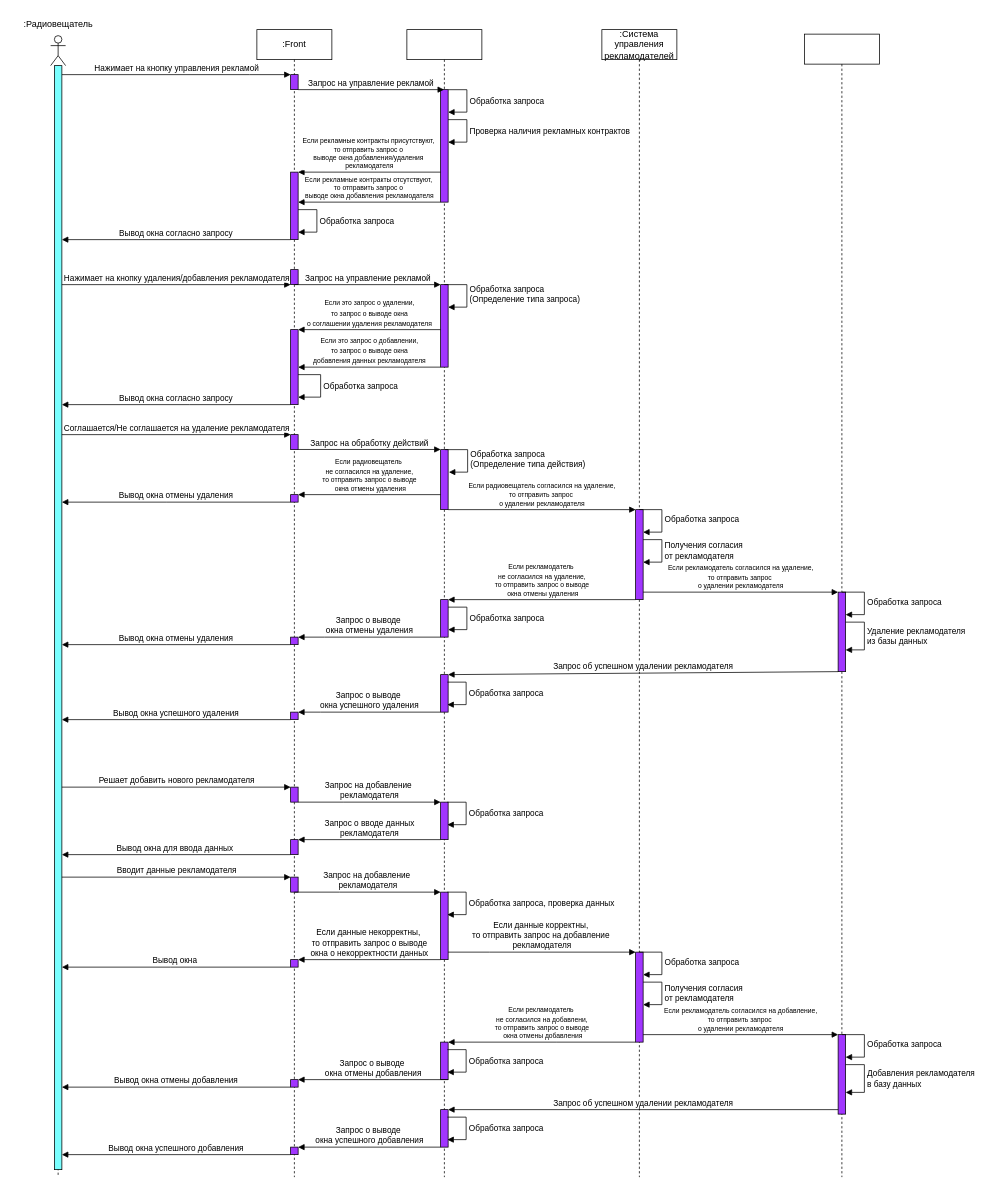
Image size: 988x1190. Some labels were removed from this diagram. The centre of each missing label's shape, as x and y in pixels:
":Back" goes at pixel 444 603.
":База данных" goes at pixel 841 605.
